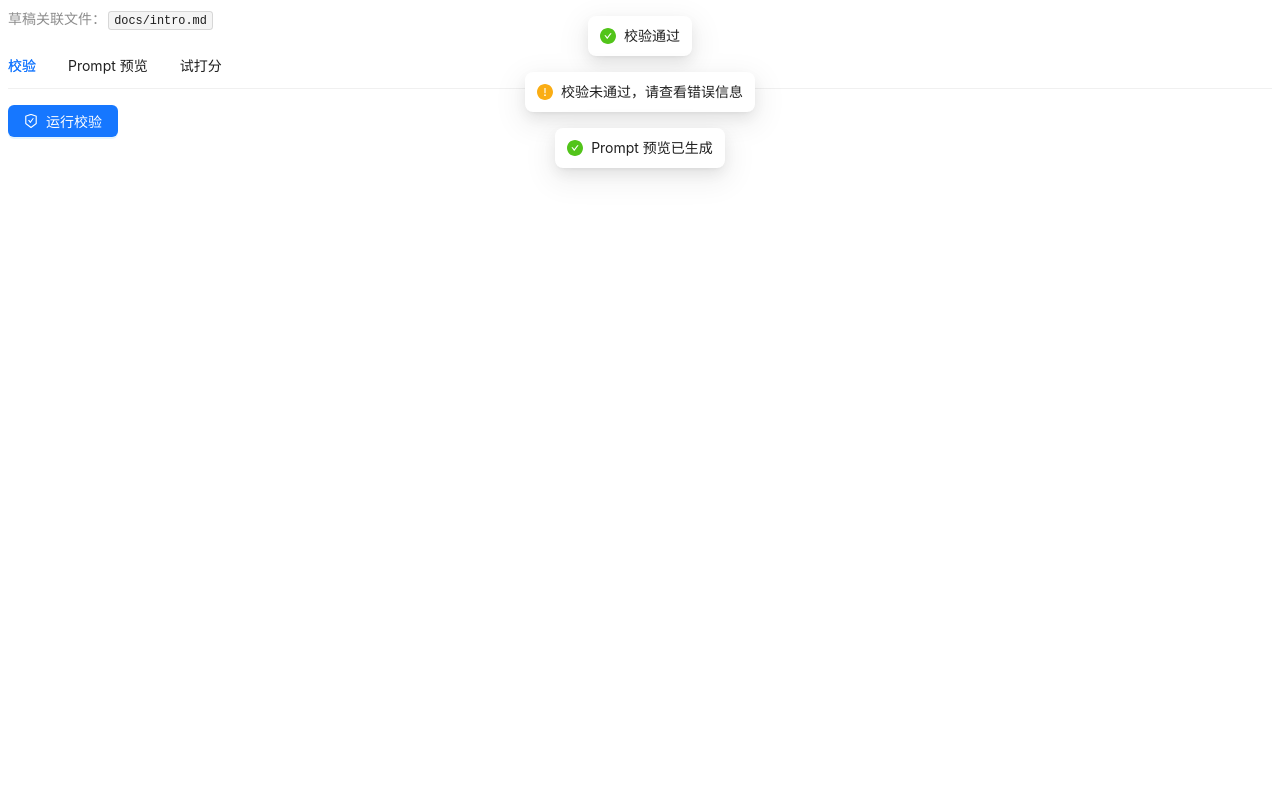
Test: KnowledgePreviewPanel › disables trial score button when article title or content is empty
Click the tab "试打分": (201, 66) [180,55,222,77]
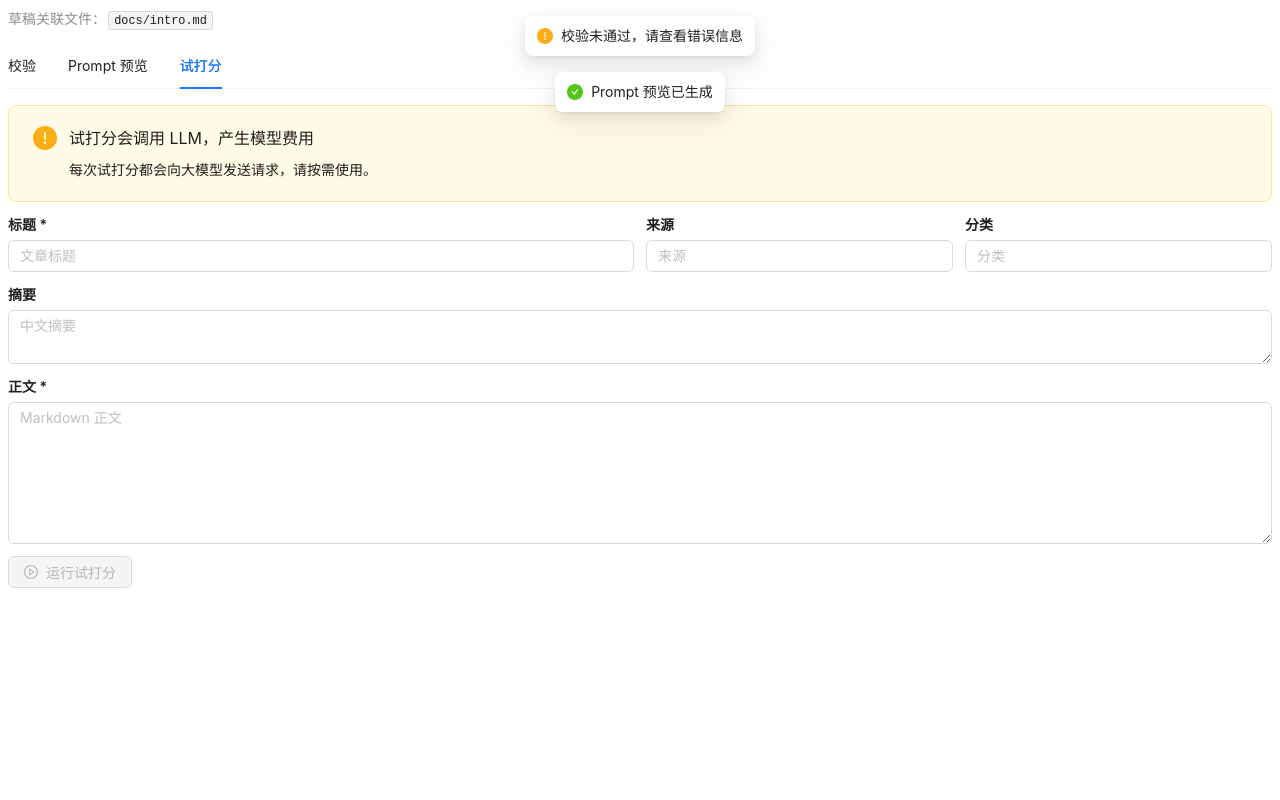
Result: the button "运行试打分" is disabled at [8,556,132,588]
